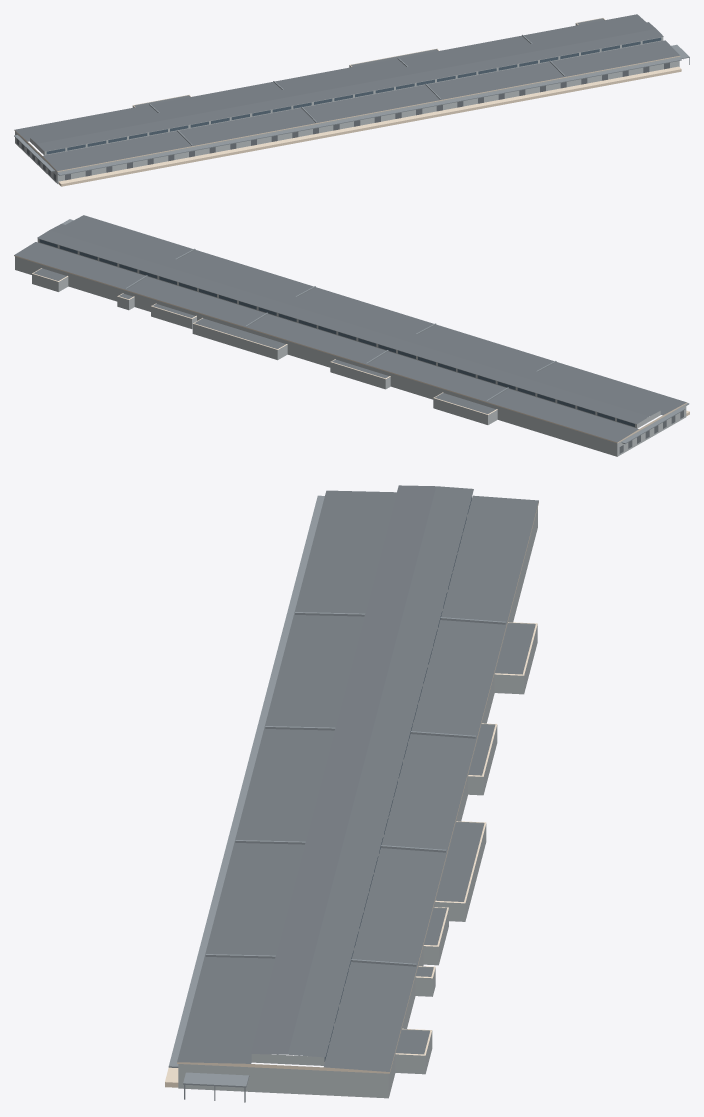
The model's file is detail.glb.
The picture shows the model from 3 angles, top to bottom: view 1: azimuth 30°, elevation 25°; view 2: azimuth 150°, elevation 25°; view 3: azimuth 270°, elevation 25°; orthographic projection. The views are drawn at different scales.
Visible parts, largest first — view 1: building-3-camp-north-end; view 2: building-3-camp-north-end; view 3: building-3-camp-north-end.
Part boxes in pixels (x1,y1,x2,y2): building-3-camp-north-end: (14, 14, 689, 186); building-3-camp-north-end: (14, 215, 689, 456); building-3-camp-north-end: (165, 485, 538, 1102).
Size of the model in its own units: 376 by 11.3 by 101.
